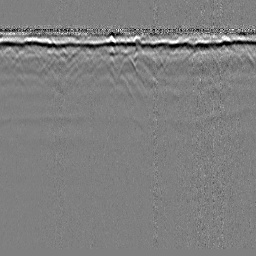cavity: (116, 52, 139, 79)
